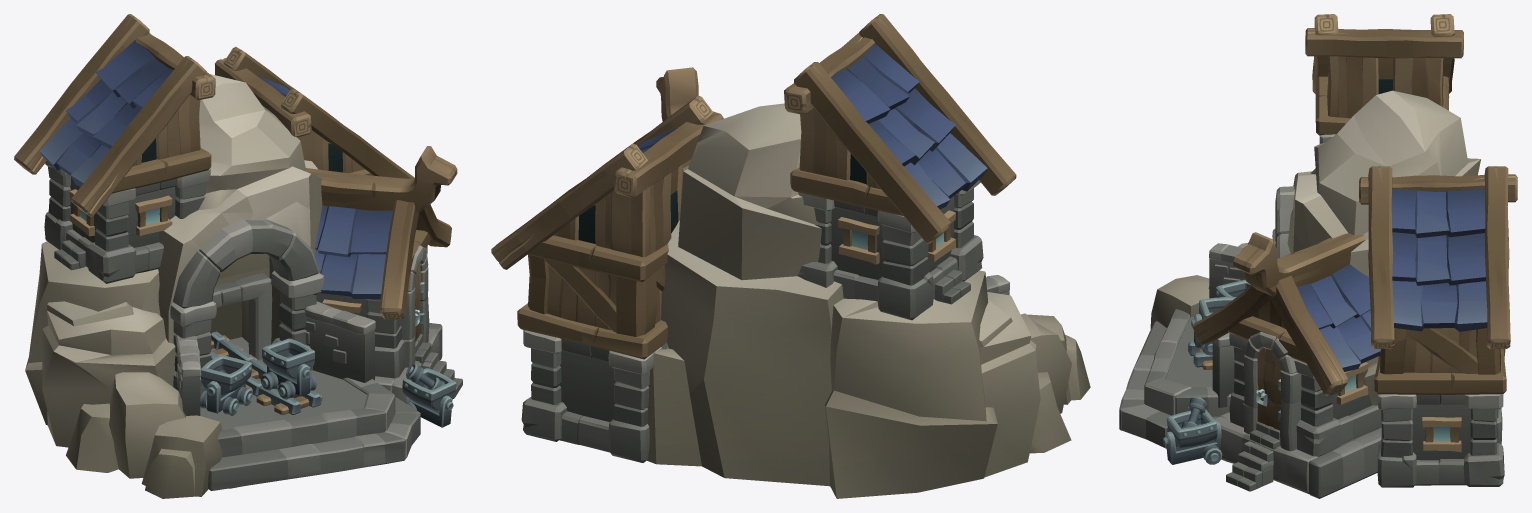
Rendered from ResourceDepot.fbx.
3 views of the same model, side by side, from view 1: azimuth 30°, elevation 25°; view 2: azimuth 150°, elevation 25°; view 3: azimuth 270°, elevation 25° (orthographic). The views are drawn at different scales.
Visible parts, largest first — view 1: 179__mine_Lv3_minecar_179__mine_Lv3_minecar_347_179__mine_Lv; view 2: 179__mine_Lv3_minecar_179__mine_Lv3_minecar_347_179__mine_Lv; view 3: 179__mine_Lv3_minecar_179__mine_Lv3_minecar_347_179__mine_Lv.
Part boxes in pixels (x1,y1,x2,y2): 179__mine_Lv3_minecar_179__mine_Lv3_minecar_347_179__mine_Lv: (14, 14, 462, 498); 179__mine_Lv3_minecar_179__mine_Lv3_minecar_347_179__mine_Lv: (491, 14, 1090, 498); 179__mine_Lv3_minecar_179__mine_Lv3_minecar_347_179__mine_Lv: (1119, 14, 1517, 498).
Bounding box in the file's own units: 13.9 × 11.61 × 11.55.
1 material, 1 textured.
